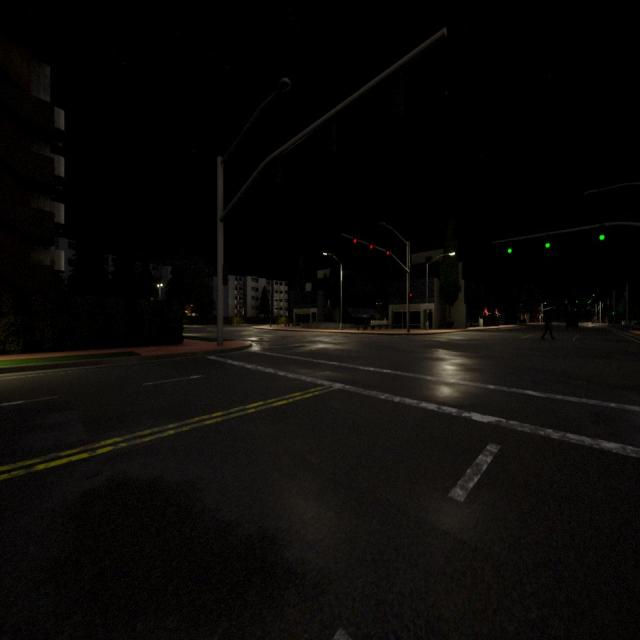Pedestrian: (540, 309, 554, 341)
Vehicle: (565, 314, 579, 328)
traffic_light: (222, 264, 230, 286), (599, 224, 605, 241), (545, 233, 550, 249), (508, 240, 512, 254), (408, 292, 412, 304), (386, 250, 390, 256), (353, 238, 357, 243), (370, 244, 373, 250), (612, 310, 615, 315), (566, 300, 568, 303), (576, 300, 578, 303), (588, 301, 590, 303)
